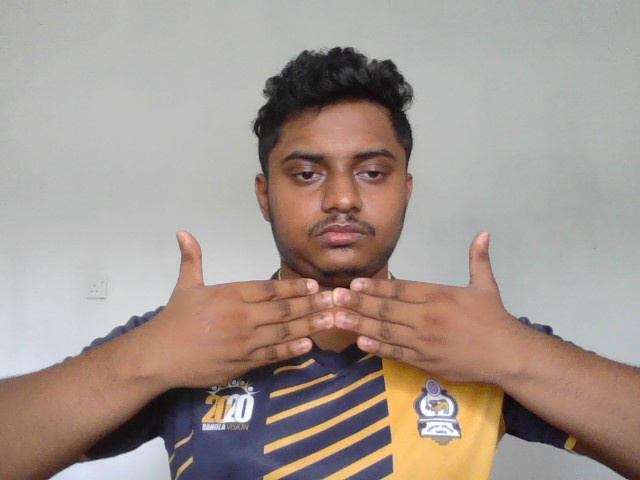Thank You: (155, 227, 507, 400)
